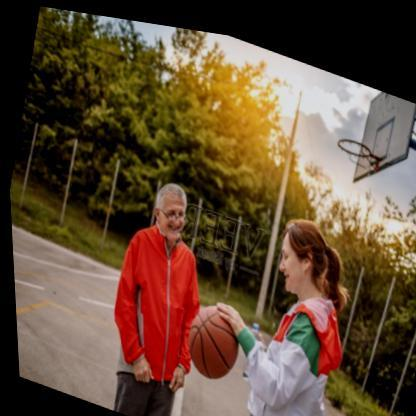basketball: (177, 293, 243, 381)
